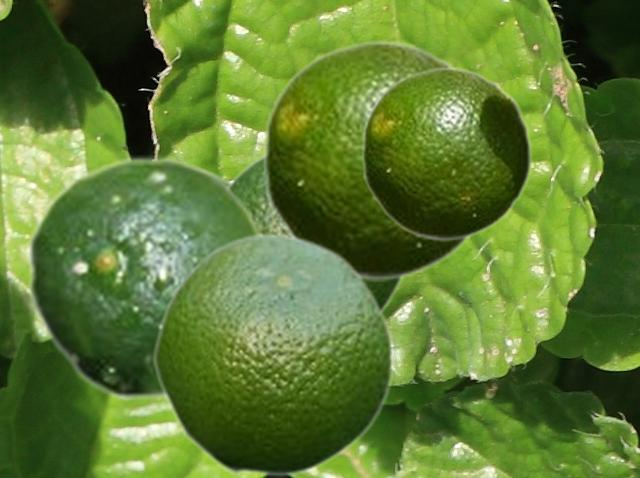calamansi: (151, 230, 394, 476), (26, 155, 267, 401), (261, 39, 477, 280), (360, 66, 532, 240), (228, 150, 406, 313)
